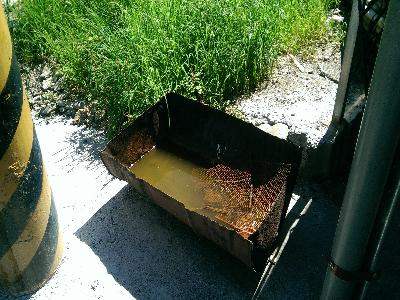box: (100, 91, 304, 268)
